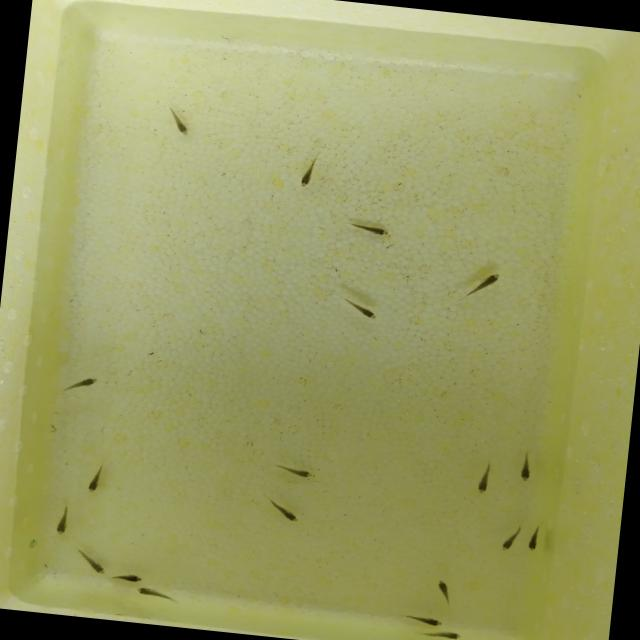fingerling: (332, 288, 383, 326), (260, 453, 322, 484), (460, 264, 506, 305), (346, 212, 398, 247), (290, 148, 329, 193), (56, 368, 106, 400), (78, 458, 116, 500), (258, 498, 310, 528), (506, 446, 540, 491), (158, 103, 200, 139), (428, 572, 461, 609), (493, 520, 525, 556), (48, 504, 77, 542), (74, 548, 109, 578), (399, 608, 446, 630), (130, 584, 180, 604), (469, 463, 496, 498), (524, 520, 548, 554), (421, 626, 465, 640), (114, 568, 152, 584)
